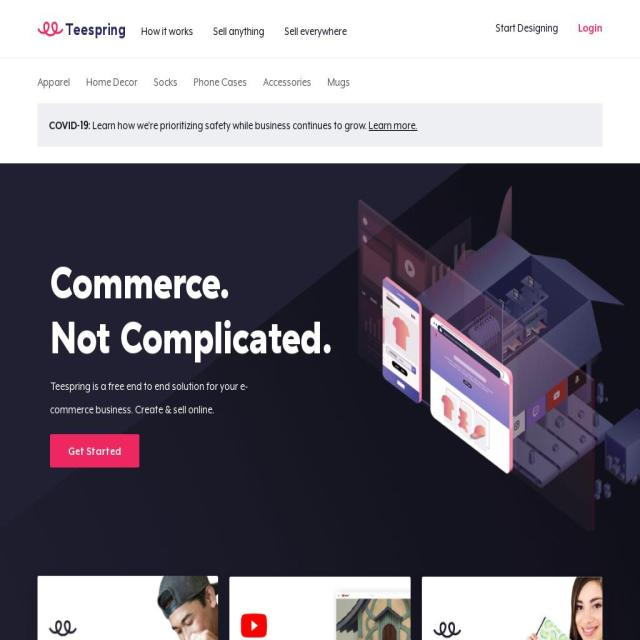button: (37, 4, 146, 58), (486, 4, 568, 51), (50, 433, 139, 468), (568, 4, 613, 51)
heading: (50, 253, 230, 468), (50, 307, 332, 365), (65, 17, 126, 41)
image: (0, 162, 640, 640), (38, 576, 218, 640), (230, 576, 410, 640), (422, 576, 602, 640), (38, 22, 64, 36)
link: (284, 24, 347, 38), (141, 24, 193, 38), (213, 24, 264, 38), (368, 118, 418, 132), (194, 75, 247, 88), (86, 75, 138, 88), (263, 75, 311, 88), (38, 75, 70, 88), (578, 21, 603, 34), (154, 75, 178, 88), (328, 75, 350, 88)
text: (50, 373, 279, 421), (92, 118, 368, 132), (48, 118, 92, 132)
